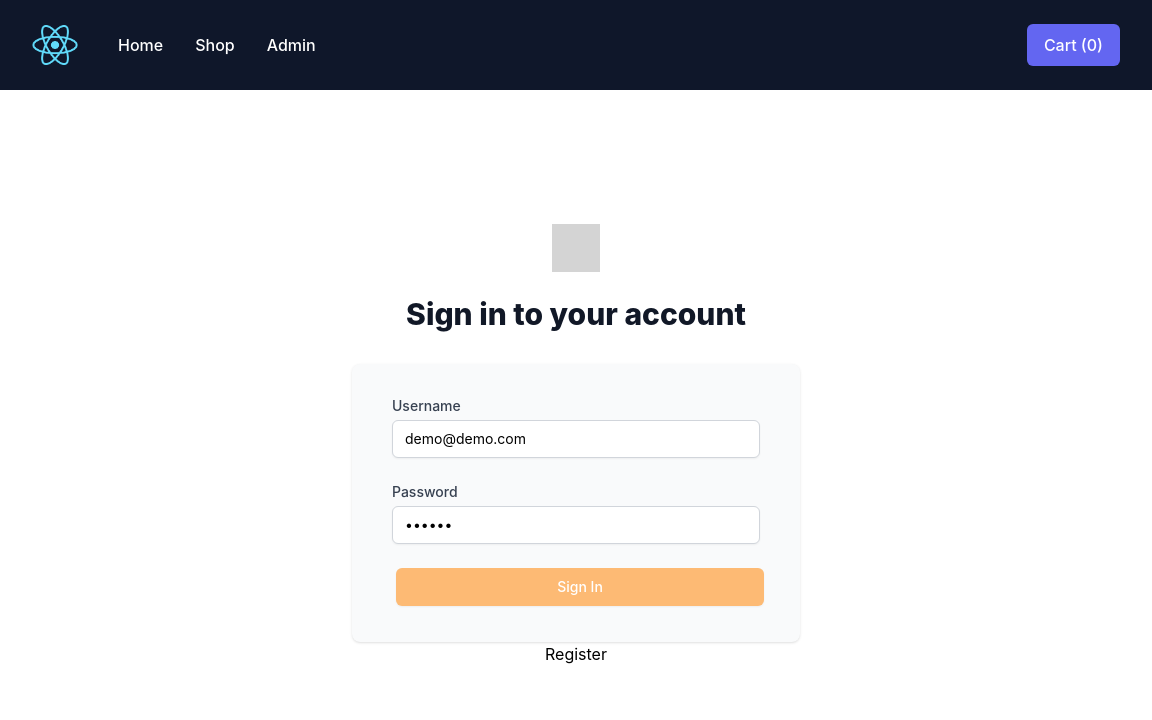
it: Login › should display an error message if Login fails
Clear the field named "username" at (576, 439), box [392,420,760,458]
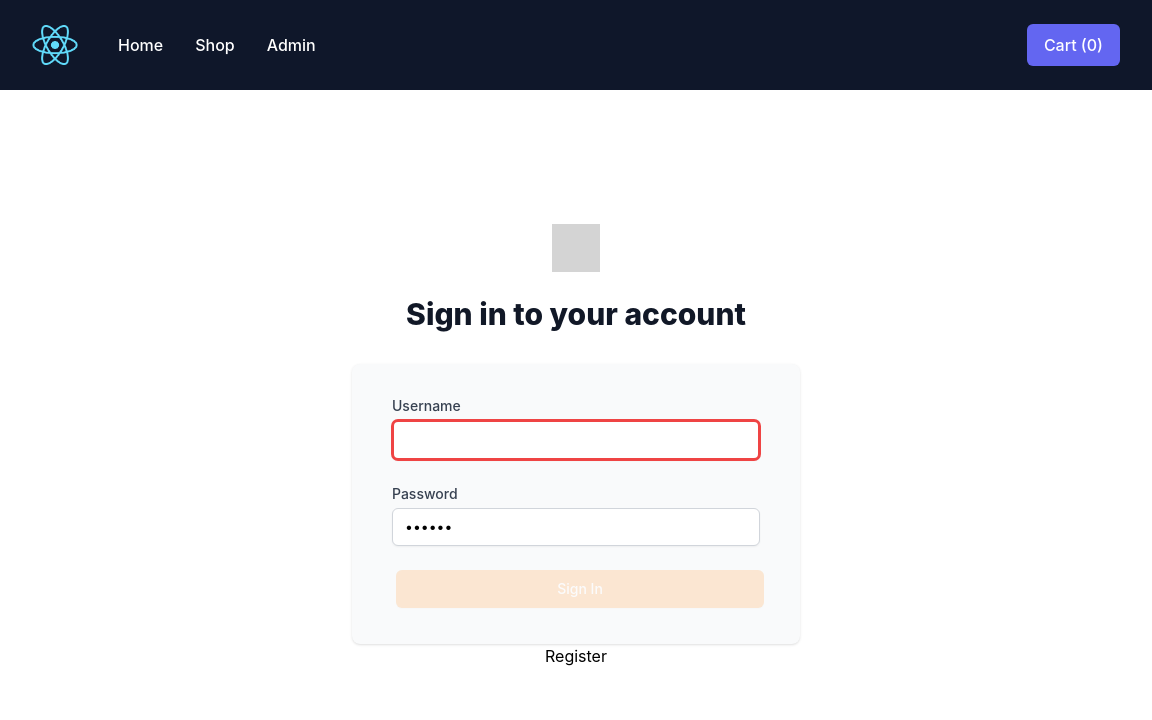
Clear the password field named "password" at (576, 527), box [392,508,760,546]
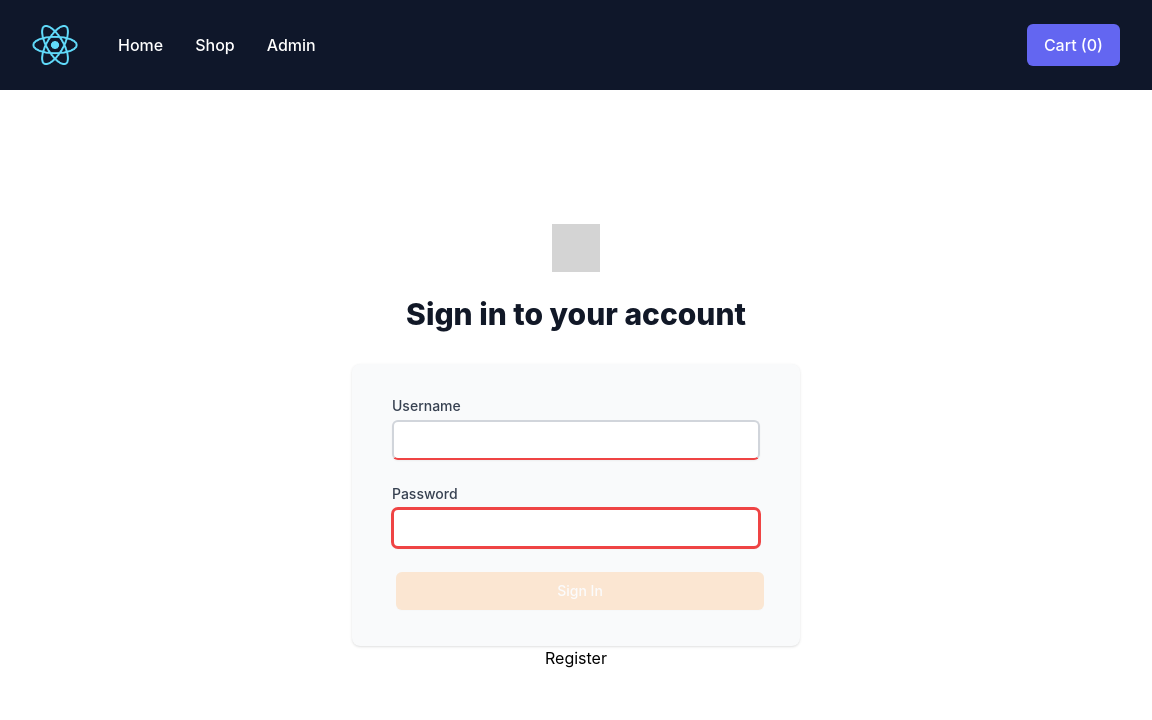
Type "fakeuser@doesnotexist.it" into the field named "username" at (576, 440), box [392,420,760,460]
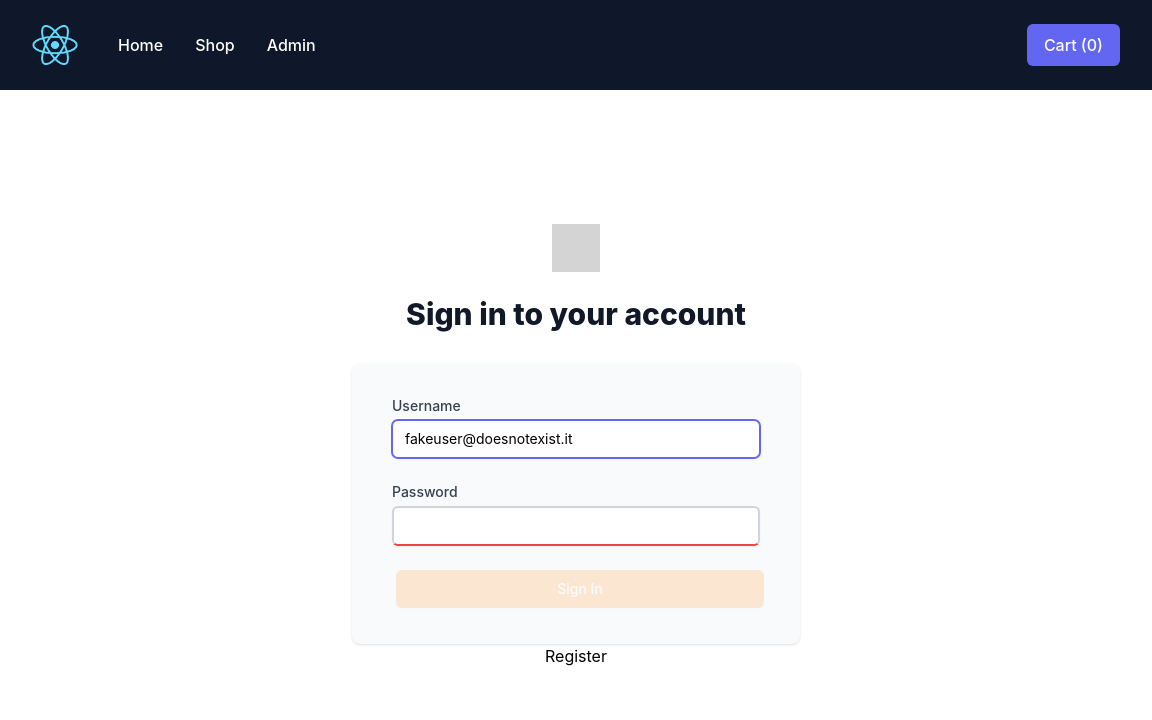
Type "123456" into the password field named "password" at (576, 526), box [392,506,760,546]
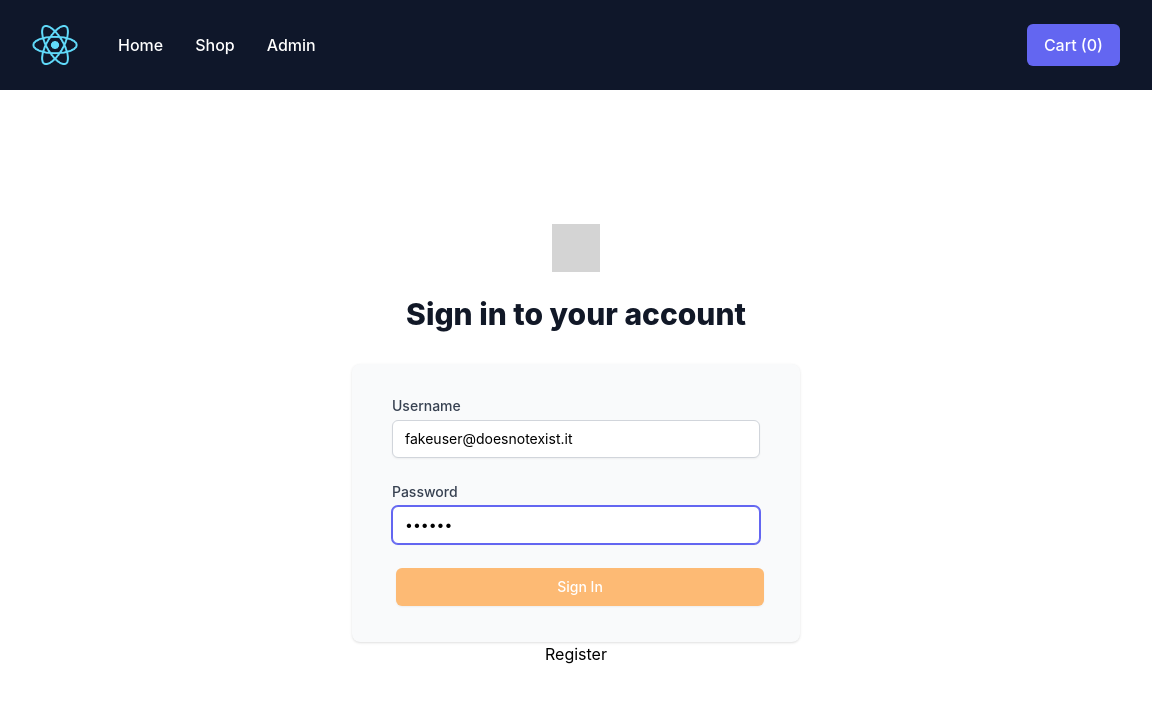
Click the button "Sign In" at (580, 587), box [396,568,764,606]
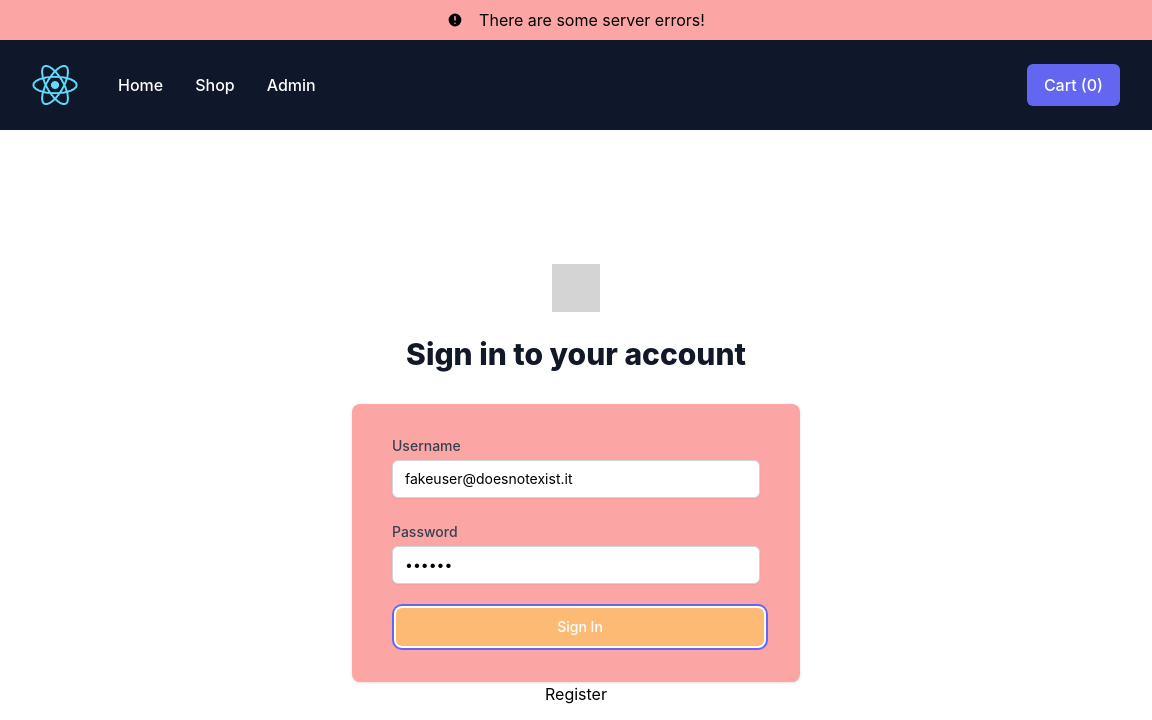
expect the element with test id "global-error-msg" is shown: met, box [0,0,1151,40]
